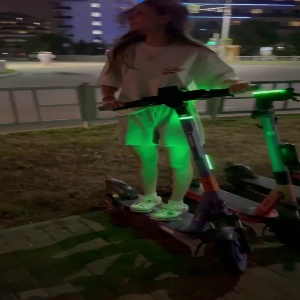human on a scooter: (96, 1, 260, 274)
